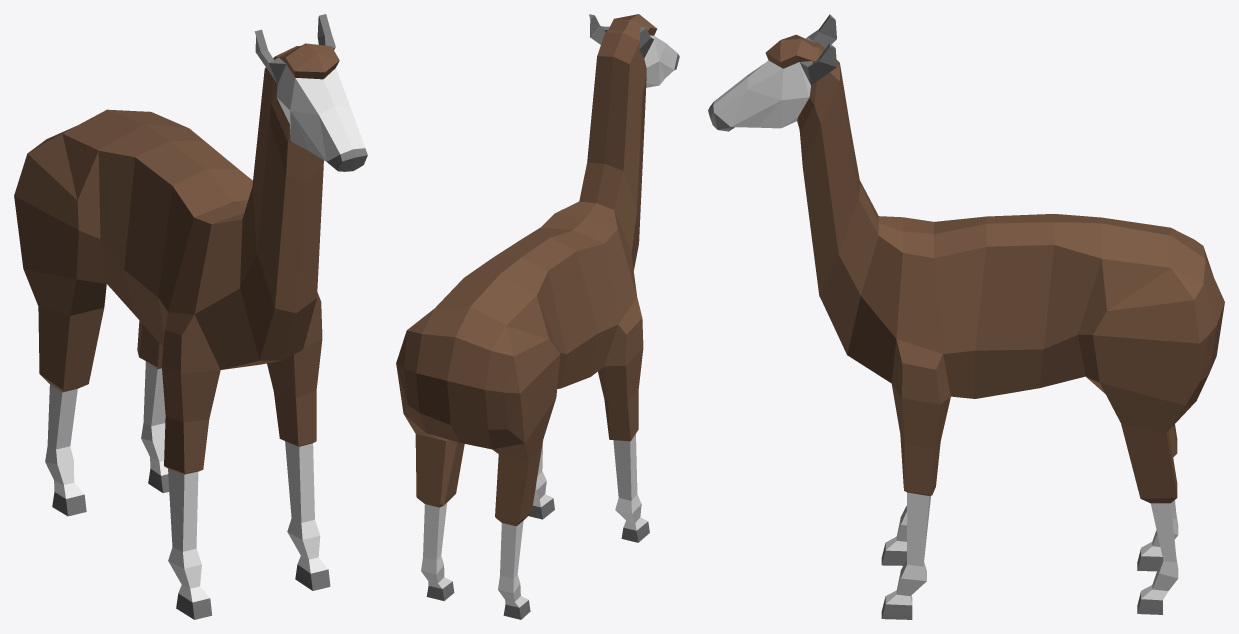
Rendered from llama.glb.
3 views of the same model, side by side, from view 1: azimuth 30°, elevation 25°; view 2: azimuth 150°, elevation 25°; view 3: azimuth 270°, elevation 25° (orthographic). The views are drawn at different scales.
Visible parts, largest first — view 1: Llama; view 2: Llama; view 3: Llama.
Part boxes in pixels (x1=…): Llama: x1=14, y1=14, x2=367, y2=619; Llama: x1=396, y1=14, x2=679, y2=619; Llama: x1=708, y1=14, x2=1224, y2=619.
Size of the model in its own units: 1.58 by 5.85 by 4.91.
